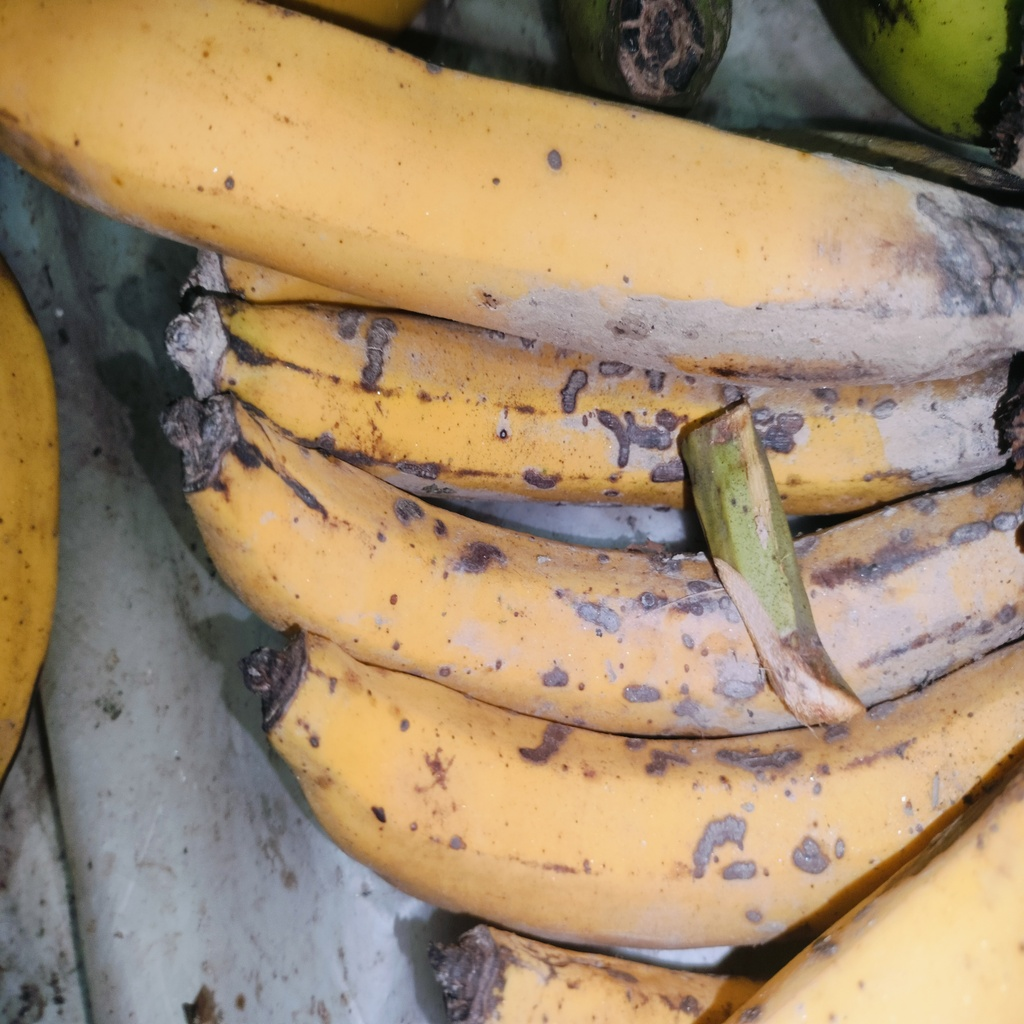unhealthy: (170, 392, 1024, 735), (261, 631, 1022, 932), (172, 291, 1020, 491)
